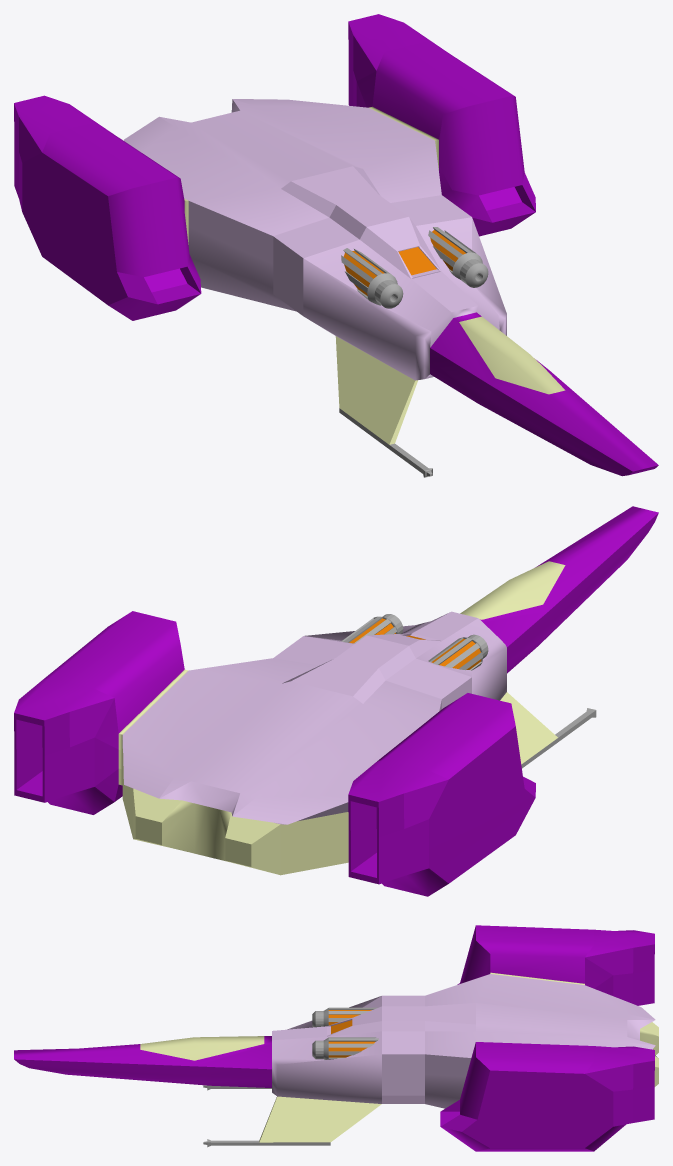
The model's file is playership_01_incolor_02.fbx.
3 views of the same model, one above another, from view 1: azimuth 30°, elevation 25°; view 2: azimuth 150°, elevation 25°; view 3: azimuth 270°, elevation 25° (orthographic). The views are drawn at different scales.
Visible parts, largest first — view 1: polySurface1; view 2: polySurface1; view 3: polySurface1.
Boxes of the visible parts, bbox=[...] form: polySurface1: bbox=[14, 14, 658, 477]; polySurface1: bbox=[14, 506, 658, 896]; polySurface1: bbox=[14, 925, 658, 1151].
Bounding box in the file's own units: 11.08 × 4.6 × 21.29.
